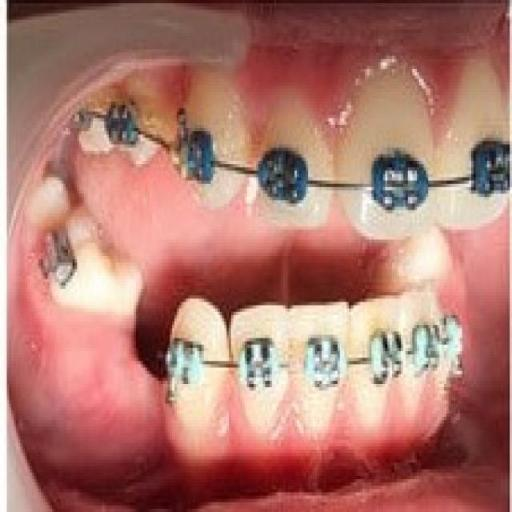spaced: (134, 308, 174, 392)
